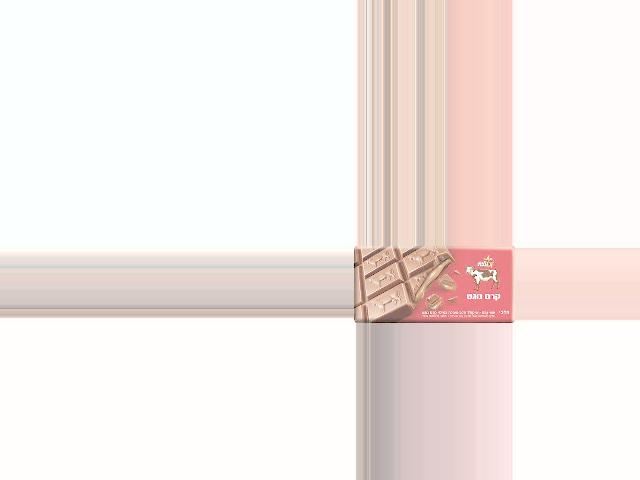chocolate: (356, 246, 515, 321)
